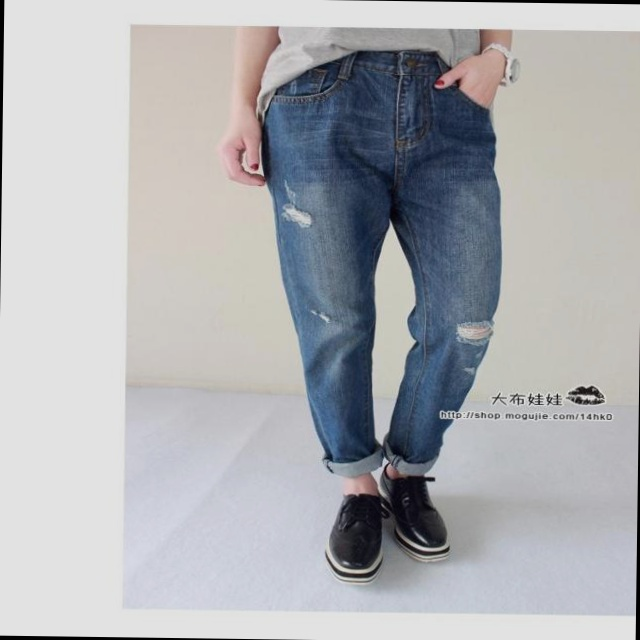ripped_pants: (232, 52, 517, 448)
